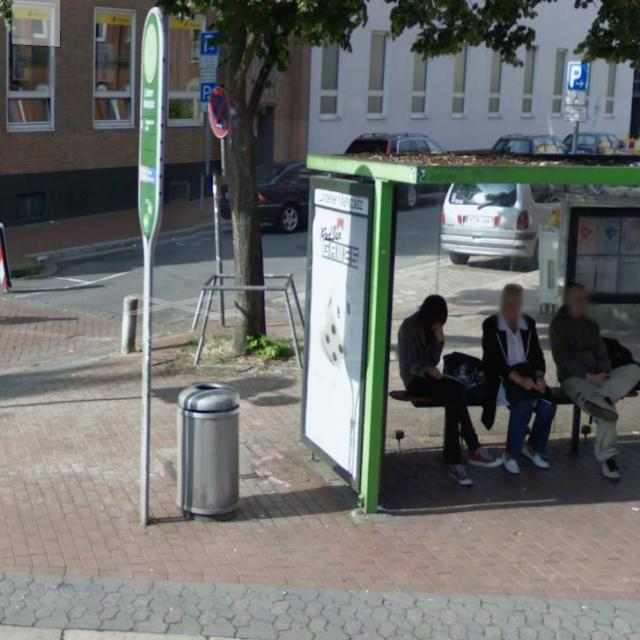Werbetafel frei: (301, 183, 369, 483)
